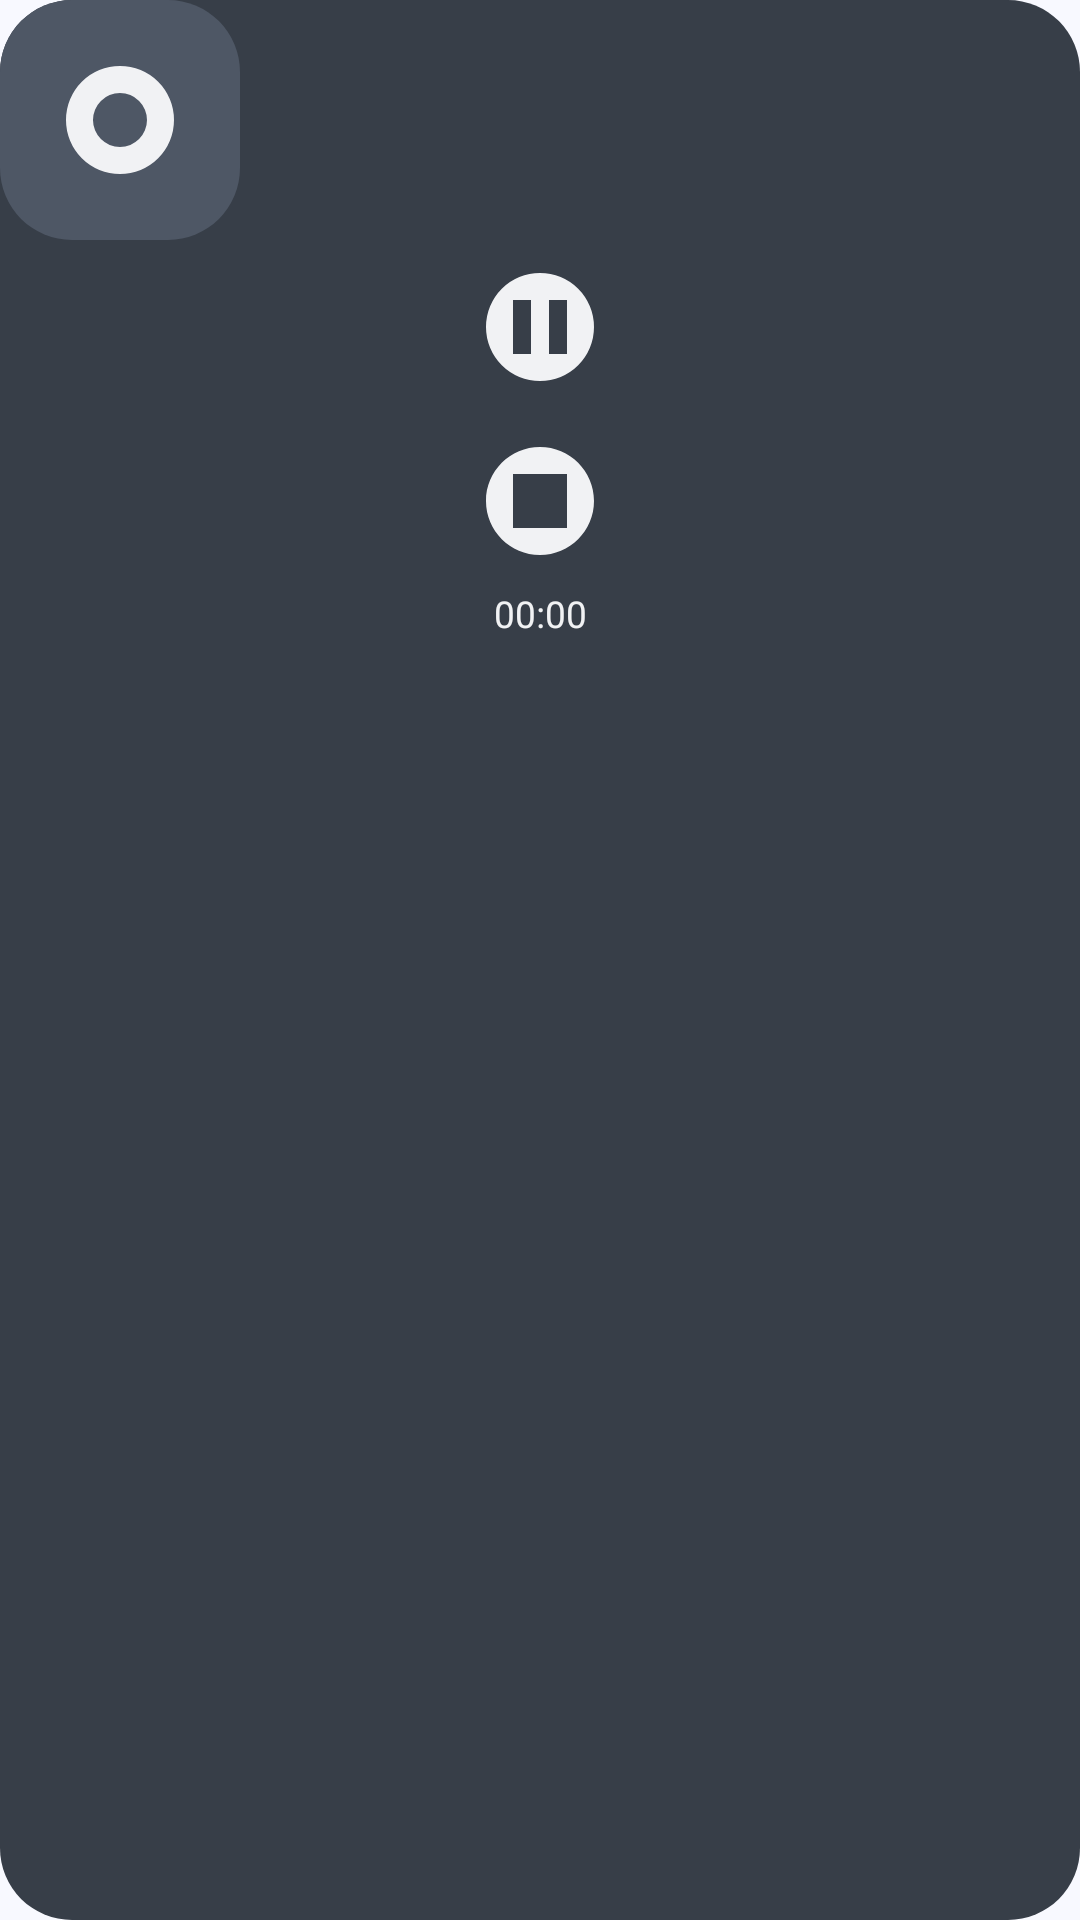

Icon click points for this 1080px x 1920px phone screenshot, format (x,y):
Floating controls handle: (120,120)
Pause recording: (540,327)
Stop recording: (540,501)
